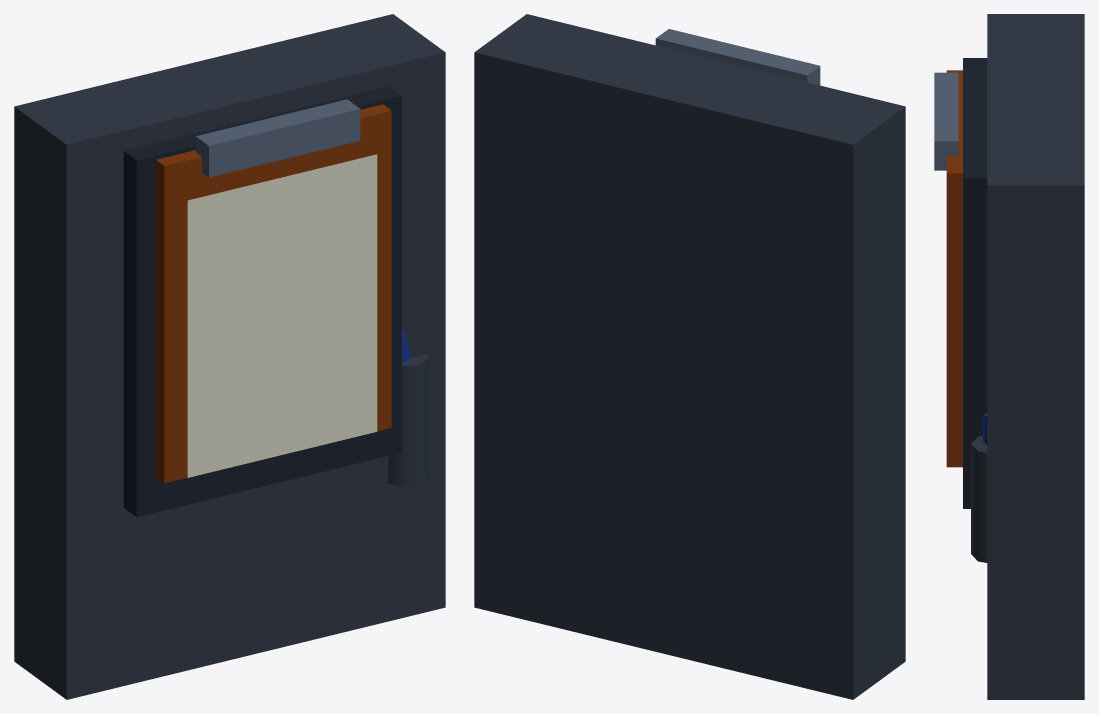
The model's file is yard-manifest-body-authored-vertex-colour-tripo-finish.glb.
3 views of the same model, side by side, from view 1: azimuth 30°, elevation 25°; view 2: azimuth 150°, elevation 25°; view 3: azimuth 270°, elevation 25° (orthographic). The views are drawn at different scales.
Parts seen in each view (by area): view 1: Authored shadows false:false; view 2: Authored shadows false:false; view 3: Authored shadows false:false.
Boxes of the visible parts, x1,y1,x2,y2 form: Authored shadows false:false: [14, 14, 445, 699]; Authored shadows false:false: [474, 14, 905, 699]; Authored shadows false:false: [934, 14, 1084, 699].
Size of the model in its own units: 0.7143 by 1 by 0.2643.
